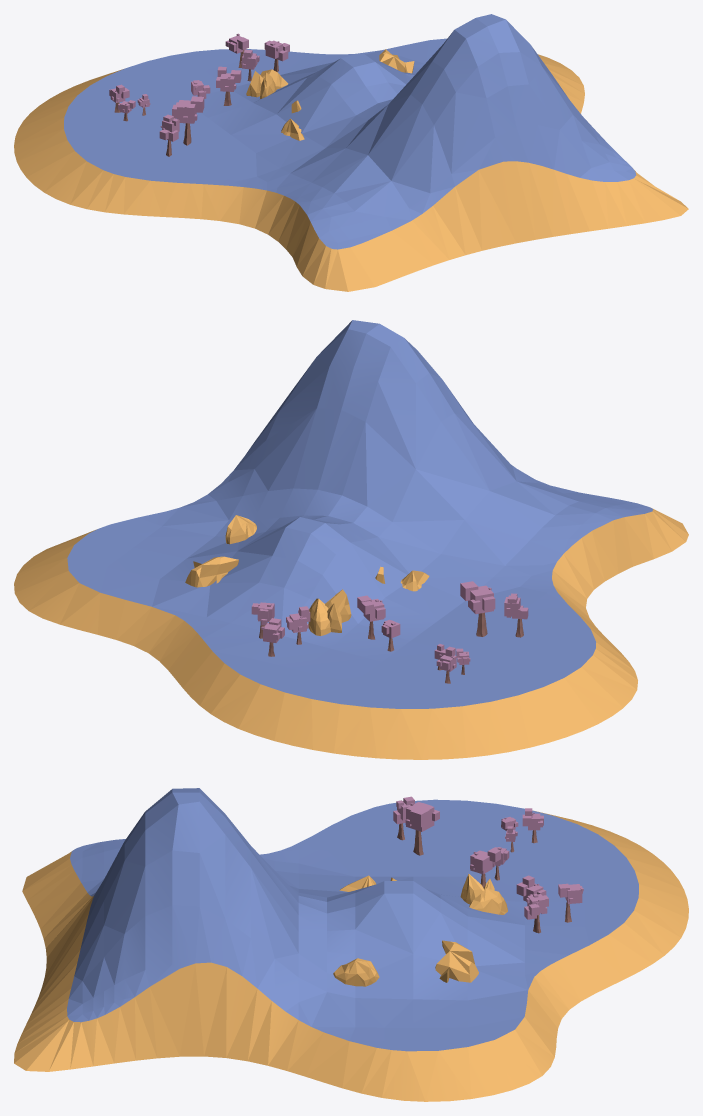
File: simpleModel.glb
3 views of the same model, one above another, from view 1: azimuth 30°, elevation 25°; view 2: azimuth 150°, elevation 25°; view 3: azimuth 270°, elevation 25° (orthographic). The views are drawn at different scales.
Visible parts, largest first — view 1: Grass, Rocks, Leafs, Trunks; view 2: Grass, Rocks, Leafs, Trunks; view 3: Grass, Rocks, Leafs, Trunks.
Part boxes in pixels (box(x1,y1,x2,y2)): Grass: box(64, 14, 636, 249); Rocks: box(14, 49, 688, 291); Leafs: box(109, 33, 289, 141); Trunks: box(114, 49, 278, 156); Grass: box(67, 320, 652, 708); Rocks: box(14, 508, 688, 759); Leafs: box(251, 581, 528, 671); Trunks: box(259, 612, 523, 683); Grass: box(67, 788, 638, 1051); Rocks: box(14, 811, 688, 1101); Leafs: box(393, 796, 583, 919); Trunks: box(397, 823, 571, 933).
Bounding box in the file's own units: 114 × 35.77 × 110.
